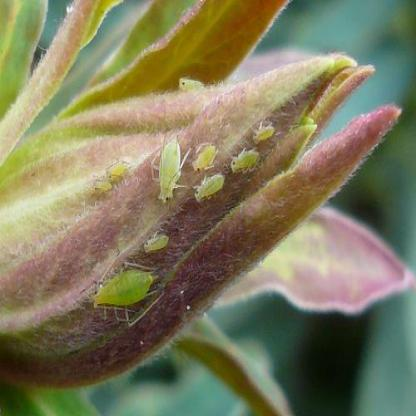aphid: (89, 256, 159, 333), (148, 125, 190, 214), (188, 166, 230, 201), (140, 217, 171, 264), (184, 134, 218, 175), (228, 144, 264, 176), (249, 116, 280, 146), (104, 154, 131, 186), (91, 168, 115, 203), (177, 71, 205, 95)
